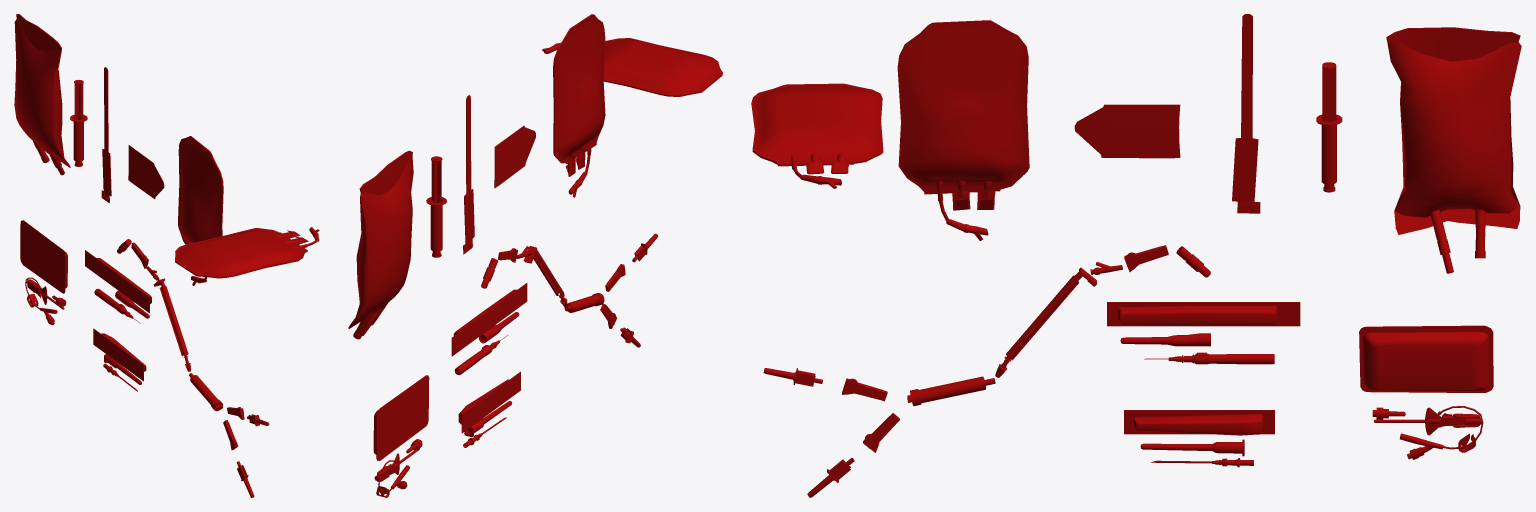
File: All_Tools.fbx
The picture shows the model from 3 angles, left to right: view 1: azimuth 30°, elevation 25°; view 2: azimuth 150°, elevation 25°; view 3: azimuth 270°, elevation 25°; orthographic projection. The views are drawn at different scales.
Parts seen in each view (by area): view 1: WaterBag, Blood_Bag_flat, Blood_Bag_Hang, package, Package_7x19, sticker_package, Package_57, Wristband, Brace, Tube, Filter, Pusher; view 2: WaterBag, Blood_Bag_Hang, Blood_Bag_flat, package, Package_7x19, sticker_package, Package_57, Wristband, Tube, Pusher, Filter, Needle_7x19 (+1 smaller); view 3: WaterBag, Blood_Bag_Hang, Blood_Bag_flat, package, sticker_package, Package_7x19, Package_57, Wristband, Tube, Filter, Needle_7x19, Brace (+4 smaller).
Boxes of the visible parts, left/top/right/bottom form: WaterBag: left=14, top=14, right=70, bottom=175; Blood_Bag_flat: left=175, top=227, right=319, bottom=278; Blood_Bag_Hang: left=178, top=136, right=223, bottom=285; package: left=20, top=220, right=67, bottom=293; Package_7x19: left=85, top=250, right=151, bottom=313; sticker_package: left=128, top=145, right=164, bottom=199; Package_57: left=93, top=328, right=146, bottom=381; Wristband: left=101, top=67, right=111, bottom=202; Brace: left=159, top=285, right=188, bottom=355; Tube: left=70, top=114, right=87, bottom=166; Filter: left=189, top=373, right=222, bottom=411; Pusher: left=74, top=79, right=83, bottom=119; WaterBag: left=348, top=150, right=413, bottom=339; Blood_Bag_Hang: left=553, top=14, right=605, bottom=197; Blood_Bag_flat: left=542, top=38, right=722, bottom=96; package: left=373, top=375, right=429, bottom=460; Package_7x19: left=451, top=283, right=527, bottom=356; sticker_package: left=494, top=125, right=535, bottom=188; Package_57: left=458, top=371, right=520, bottom=433; Wristband: left=463, top=95, right=474, bottom=254; Tube: left=426, top=197, right=446, bottom=257; Pusher: left=431, top=156, right=442, bottom=202; Filter: left=564, top=293, right=604, bottom=312; Needle_7x19: left=454, top=334, right=508, bottom=375; WaterBag: left=1386, top=27, right=1521, bottom=273; Blood_Bag_Hang: left=897, top=20, right=1029, bottom=240; Blood_Bag_flat: left=751, top=83, right=883, bottom=188; package: left=1359, top=325, right=1493, bottom=392; sticker_package: left=1074, top=104, right=1180, bottom=158; Package_7x19: left=1107, top=302, right=1300, bottom=326; Package_57: left=1124, top=410, right=1274, bottom=435; Wristband: left=1232, top=14, right=1260, bottom=213; Tube: left=1316, top=114, right=1342, bottom=192; Filter: left=907, top=376, right=995, bottom=406; Needle_7x19: left=1144, top=352, right=1274, bottom=364; Brace: left=1006, top=275, right=1078, bottom=360.
Size of the model in its own units: 24.31 by 53.24 by 76.86.
